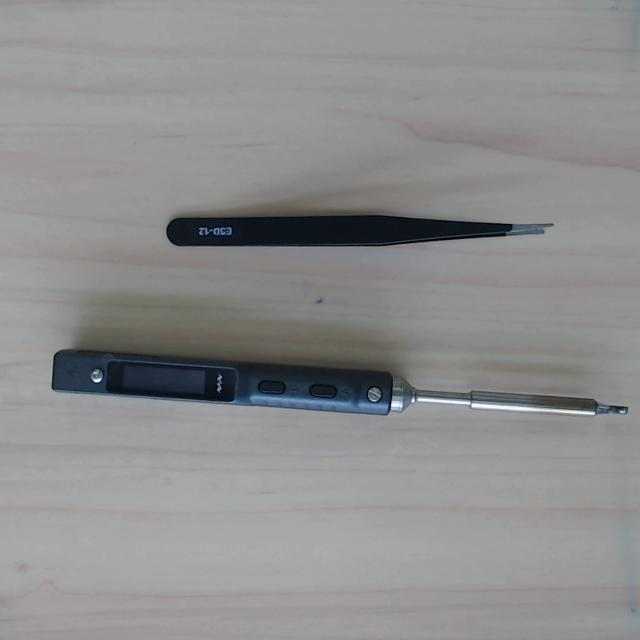Soldering-Iron: (51, 348, 629, 433)
Tweezers: (166, 215, 552, 246)
